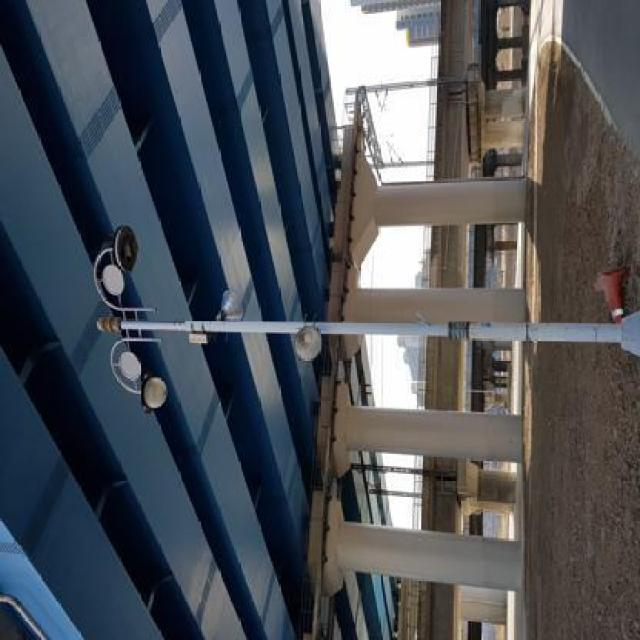pole: (181, 290, 640, 366)
